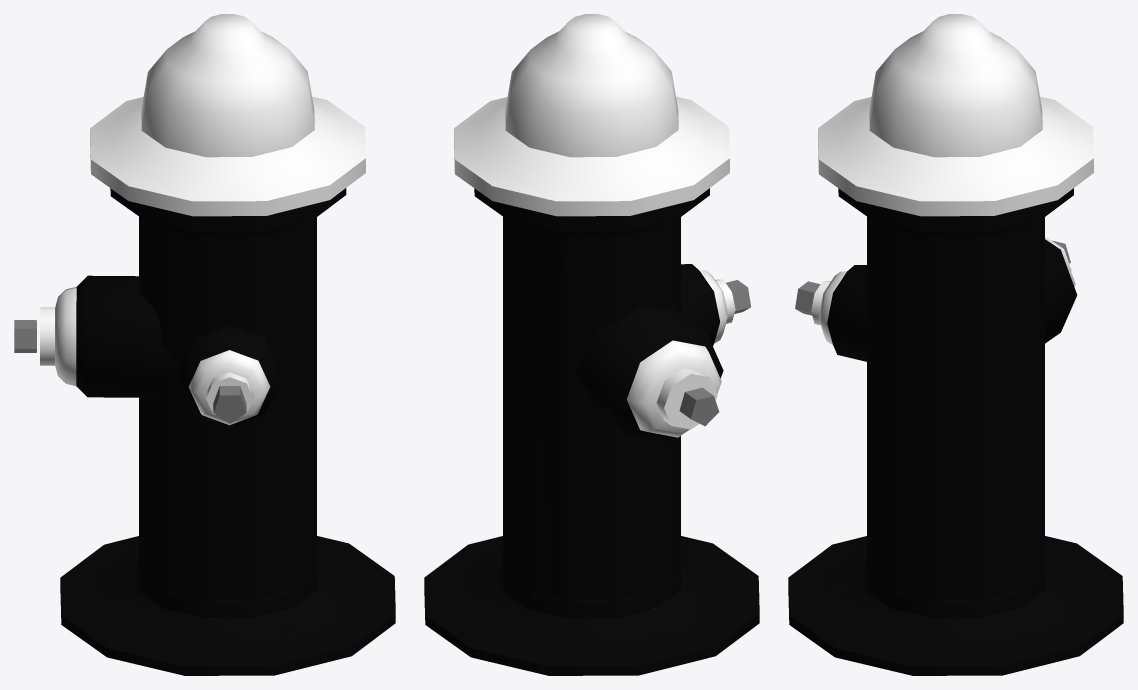
3 renders of one model, left to right at view 1: azimuth 30°, elevation 25°; view 2: azimuth 150°, elevation 25°; view 3: azimuth 270°, elevation 25°, orthographic.
Visible parts, largest first — view 1: Joint_0_Object_3, Joint_0_Object_4, Joint_0_Object_0, Joint_0_Object_1, Joint_0_Object_10, Joint_0_Object_11, Joint_0_Object_12, Joint_0_Object_13, Joint_0_Object_2, Joint_0_Object_9, Joint_0_Object_5; view 2: Joint_0_Object_3, Joint_0_Object_4, Joint_0_Object_0, Joint_0_Object_1, Joint_0_Object_10, Joint_0_Object_9, Joint_0_Object_13, Joint_0_Object_2, Joint_0_Object_11, Joint_0_Object_5, Joint_0_Object_12; view 3: Joint_0_Object_3, Joint_0_Object_4, Joint_0_Object_0, Joint_0_Object_1, Joint_0_Object_13, Joint_0_Object_11, Joint_0_Object_2, Joint_0_Object_10, Joint_0_Object_12, Joint_0_Object_5.
Boxes of the visible parts, x1,y1,x2,y2 form: Joint_0_Object_3: (139,216,316,618); Joint_0_Object_4: (90,14,365,216); Joint_0_Object_0: (78,542,377,656); Joint_0_Object_1: (60,536,395,675); Joint_0_Object_10: (76,275,178,397); Joint_0_Object_11: (179,326,279,428); Joint_0_Object_12: (188,350,270,425); Joint_0_Object_13: (110,188,346,232); Joint_0_Object_2: (120,562,335,632); Joint_0_Object_9: (40,287,76,385); Joint_0_Object_5: (14,320,246,423); Joint_0_Object_3: (503,217,680,618); Joint_0_Object_4: (454,14,729,216); Joint_0_Object_0: (442,542,741,656); Joint_0_Object_1: (424,536,759,675); Joint_0_Object_10: (576,306,723,442); Joint_0_Object_9: (627,340,721,437); Joint_0_Object_13: (474,188,709,232); Joint_0_Object_2: (484,562,699,632); Joint_0_Object_11: (681,264,719,345); Joint_0_Object_5: (679,280,750,426); Joint_0_Object_12: (699,270,735,343); Joint_0_Object_3: (867,217,1044,618); Joint_0_Object_4: (818,14,1093,216); Joint_0_Object_0: (806,542,1105,656); Joint_0_Object_1: (788,536,1123,675); Joint_0_Object_13: (838,188,1073,232); Joint_0_Object_11: (827,265,867,361); Joint_0_Object_2: (848,562,1063,632); Joint_0_Object_10: (1045,239,1077,343); Joint_0_Object_12: (811,271,846,344); Joint_0_Object_5: (795,240,1070,315).
Size of the model in its own units: 579 by 1019 by 533.
Materials: 12 (7 with a texture image).
